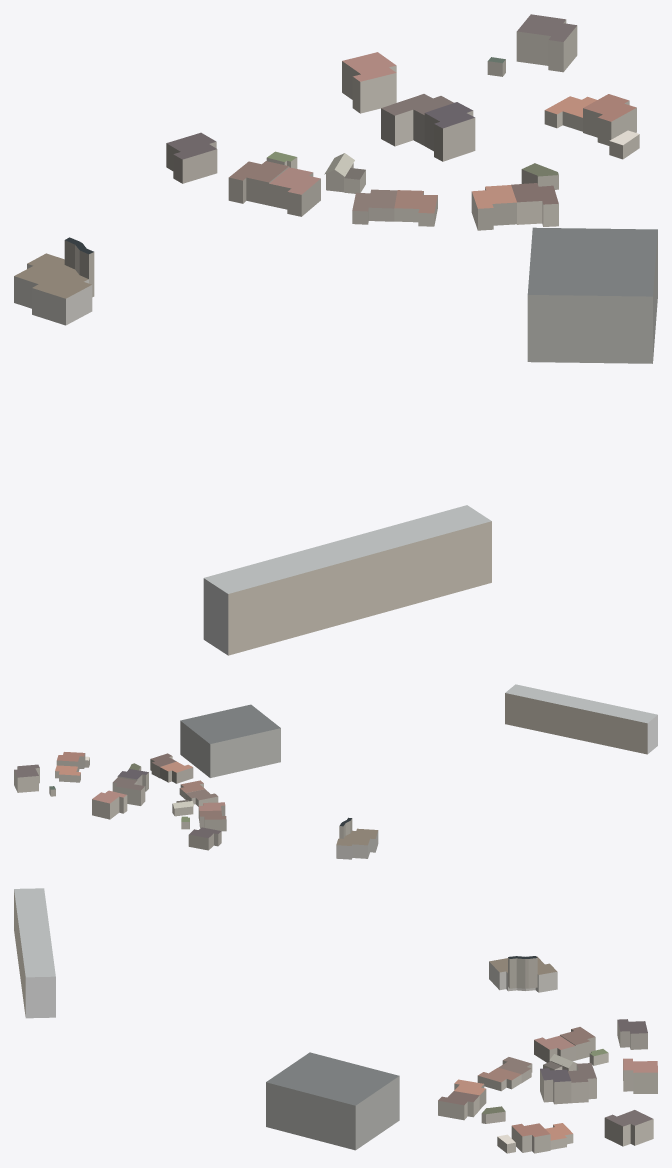
3 renders of one model, top to bottom at view 1: azimuth 30°, elevation 25°; view 2: azimuth 150°, elevation 25°; view 3: azimuth 270°, elevation 25°, orthographic. The views are drawn at different scales.
Visible parts, largest first — view 1: tuile; view 2: tuile; view 3: tuile.
Boxes of the visible parts, bbox=[...] form: tuile: bbox=[14, 14, 657, 655]; tuile: bbox=[14, 684, 657, 859]; tuile: bbox=[14, 888, 657, 1153].
Size of the model in its own units: 239 by 27.68 by 248.
